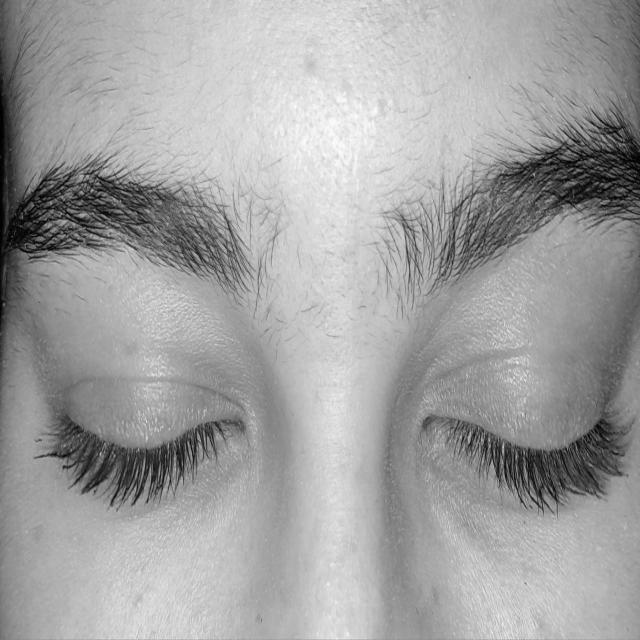real: (24, 190, 638, 598)
